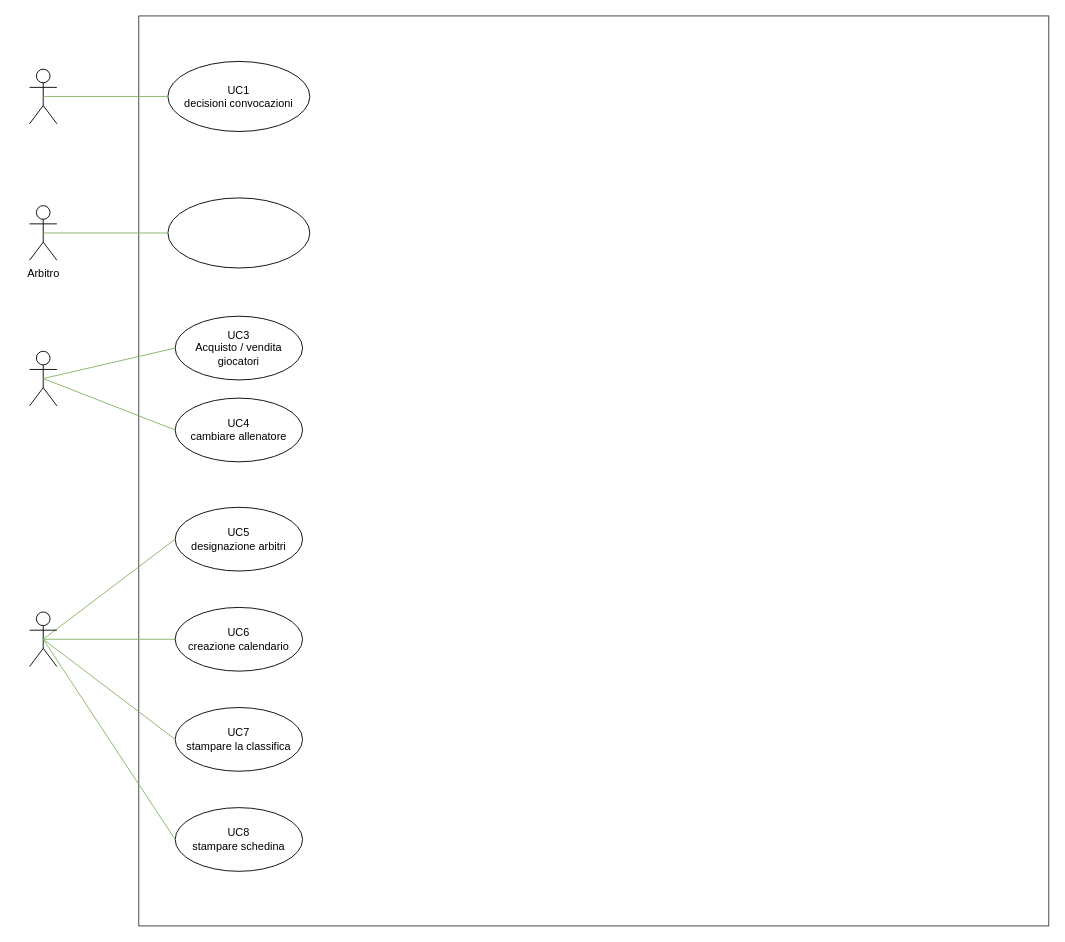
The diagram is 1065 pixels wide and 942 high, and some of its shapes have lost their labels. The centre of each missing label's shape, as x and y in pixels:
Allenatore: the point at 43,96
FIGC: the point at 43,639
Presidenza squadre: the point at 43,378
UC2 memorizzare risultato finale: the point at 238,232
